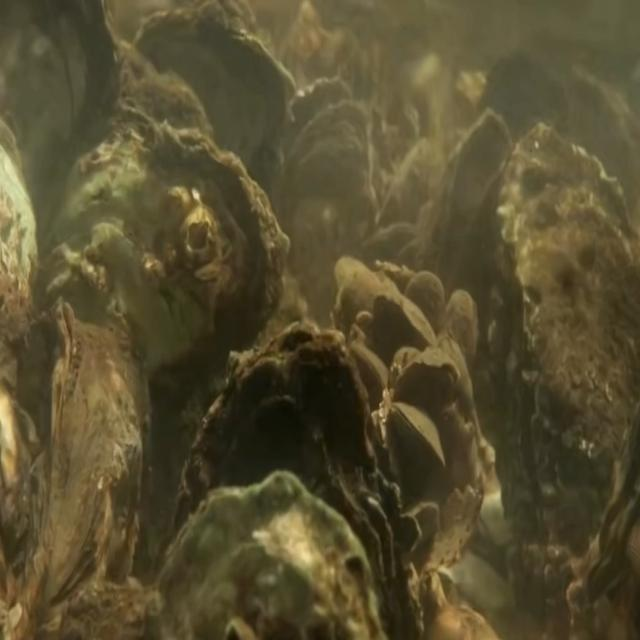Oyster-Closed: (56, 119, 290, 533), (181, 320, 422, 640), (487, 121, 640, 564), (152, 470, 390, 640), (391, 401, 445, 464), (396, 356, 460, 404)
Oyster-Indeterminate: (22, 297, 152, 640), (431, 108, 515, 338), (374, 290, 436, 344), (405, 270, 444, 341), (444, 288, 478, 363)
Oyster-Open: (273, 78, 370, 290)
